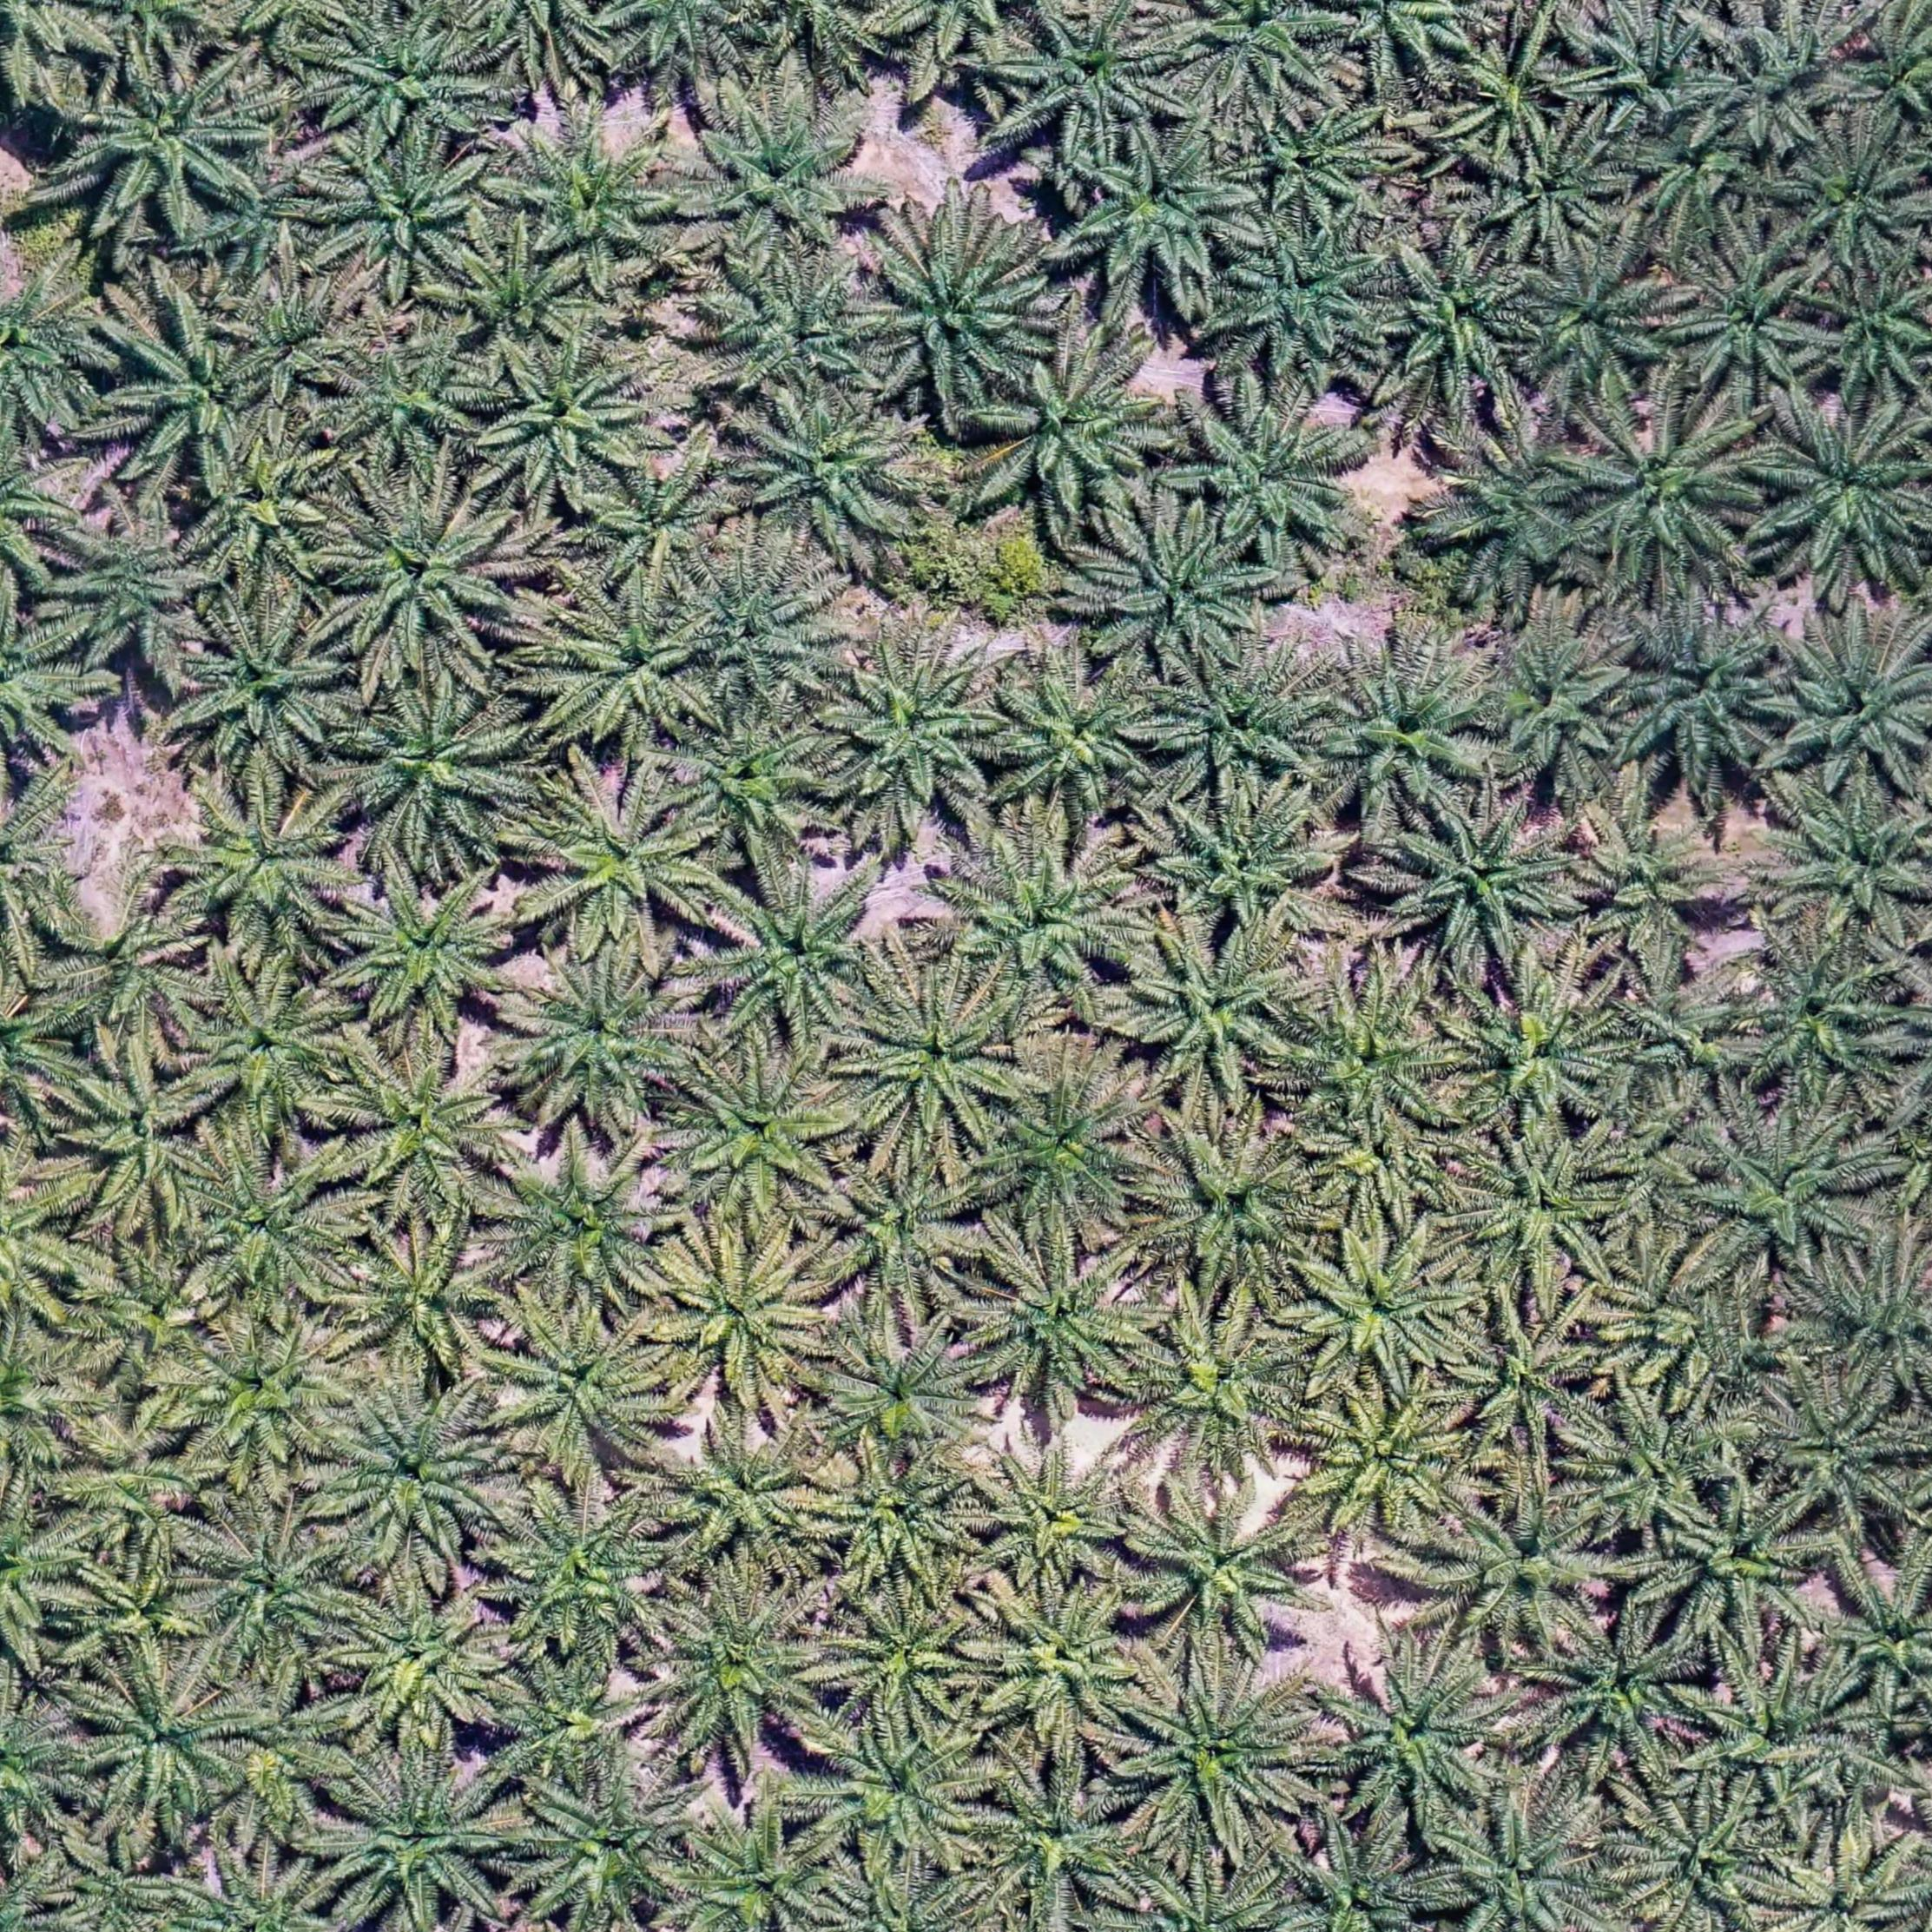palmtree: (1560, 398, 1766, 598), (326, 474, 531, 672), (936, 828, 1154, 1014), (1313, 1637, 1518, 1831), (810, 637, 1012, 833), (640, 1578, 844, 1771), (1113, 1656, 1318, 1847), (679, 90, 888, 278), (520, 768, 722, 961), (1380, 791, 1587, 978), (1686, 1100, 1890, 1286), (648, 1223, 846, 1410), (336, 678, 538, 862), (863, 218, 1056, 409), (704, 860, 901, 1047), (977, 341, 1177, 524), (71, 51, 272, 232), (508, 954, 708, 1134), (479, 1132, 681, 1311), (1683, 1652, 1886, 1829), (663, 1049, 858, 1233), (495, 110, 694, 290), (1748, 402, 1932, 594), (1421, 1486, 1621, 1663), (326, 1382, 517, 1566), (1139, 1118, 1336, 1297), (163, 777, 359, 955), (1608, 602, 1798, 786), (1277, 977, 1477, 1150), (1125, 1481, 1316, 1661), (1118, 927, 1309, 1108), (327, 1752, 522, 1928), (970, 1233, 1164, 1410), (1063, 133, 1261, 306), (842, 971, 1031, 1152), (488, 1488, 679, 1667), (1177, 395, 1373, 568), (1315, 646, 1502, 826), (331, 1035, 520, 1214), (1122, 1306, 1311, 1484), (736, 386, 931, 559), (1730, 932, 1914, 1115), (488, 1300, 676, 1479), (336, 869, 527, 1044), (970, 1575, 1161, 1750), (1559, 796, 1743, 977), (1152, 787, 1352, 952), (1444, 1122, 1631, 1297), (1295, 1382, 1481, 1555), (1523, 1606, 1709, 1780), (1440, 973, 1628, 1145), (701, 253, 904, 410), (538, 580, 722, 754), (1649, 1481, 1833, 1654), (1152, 644, 1345, 809), (1373, 234, 1550, 412), (1430, 421, 1606, 600), (53, 1046, 225, 1230), (1292, 1221, 1479, 1389), (1083, 506, 1274, 671), (1468, 619, 1645, 796), (80, 1652, 260, 1826), (520, 1760, 706, 1928), (653, 1414, 840, 1580), (809, 1711, 1000, 1874), (177, 602, 354, 777), (476, 340, 660, 508), (333, 1575, 517, 1743), (111, 303, 276, 490), (984, 1063, 1164, 1233), (812, 1145, 994, 1313), (985, 655, 1169, 821), (179, 1316, 368, 1477), (191, 1138, 368, 1309), (1438, 1297, 1614, 1468), (1760, 778, 1932, 954), (966, 1428, 1146, 1594), (966, 1759, 1148, 1923), (1773, 616, 1932, 803), (1511, 239, 1684, 410), (812, 1313, 996, 1472), (1752, 1373, 1923, 1543), (1660, 235, 1833, 403), (315, 140, 497, 299), (336, 1221, 517, 1380), (805, 1444, 989, 1598), (51, 501, 216, 672), (1217, 219, 1394, 379), (1003, 4, 1182, 161), (667, 701, 842, 860), (193, 1511, 364, 1672), (1422, 1792, 1619, 1932), (182, 432, 347, 598), (676, 557, 849, 715), (42, 885, 211, 1046), (191, 973, 359, 1132), (315, 9, 497, 156), (1472, 119, 1642, 269), (819, 1591, 993, 1737), (1704, 9, 1872, 159), (212, 1668, 361, 1836), (1614, 1789, 1790, 1928), (663, 1801, 851, 1932), (329, 333, 497, 478), (1569, 1396, 1725, 1552), (1771, 126, 1928, 280), (1610, 964, 1767, 1115), (579, 456, 741, 600), (60, 1414, 212, 1566), (488, 1654, 653, 1792), (69, 1240, 228, 1382), (1238, 96, 1405, 230), (1622, 108, 1776, 249), (1169, 0, 1357, 113), (0, 253, 113, 441), (1589, 1231, 1716, 1394), (1805, 1253, 1932, 1408), (230, 272, 370, 414), (1277, 1822, 1456, 1932), (1444, 23, 1585, 159), (1585, 2, 1730, 129), (1821, 1552, 1932, 1714), (1808, 264, 1932, 407), (65, 1552, 212, 1672), (451, 237, 591, 361), (207, 147, 333, 278), (0, 1688, 96, 1859), (1757, 1835, 1925, 1932), (156, 1852, 356, 1932), (50, 1824, 195, 1932), (1316, 1113, 1442, 1226), (1113, 1861, 1309, 1932), (1840, 14, 1932, 147)
